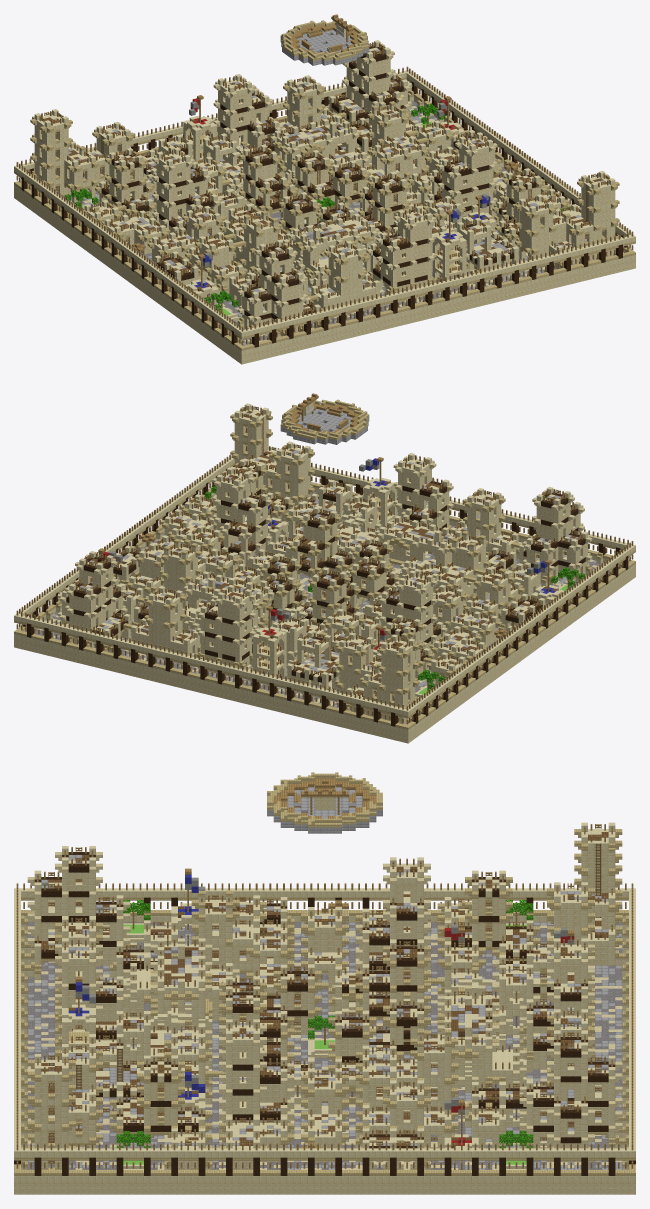
The model's file is minecraft.obj.
The picture shows the model from 3 angles, top to bottom: view 1: azimuth 30°, elevation 25°; view 2: azimuth 150°, elevation 25°; view 3: azimuth 270°, elevation 25°; orthographic projection. The views are drawn at different scales.
Bounding box in the file's own units: 91 × 46 × 91.
